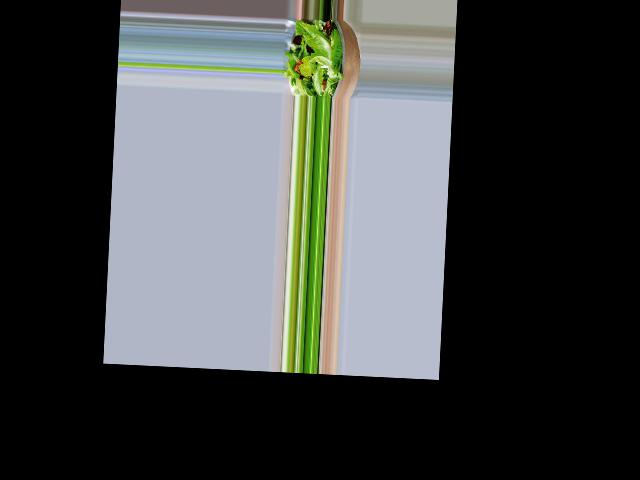lettuce: (286, 25, 344, 94)
